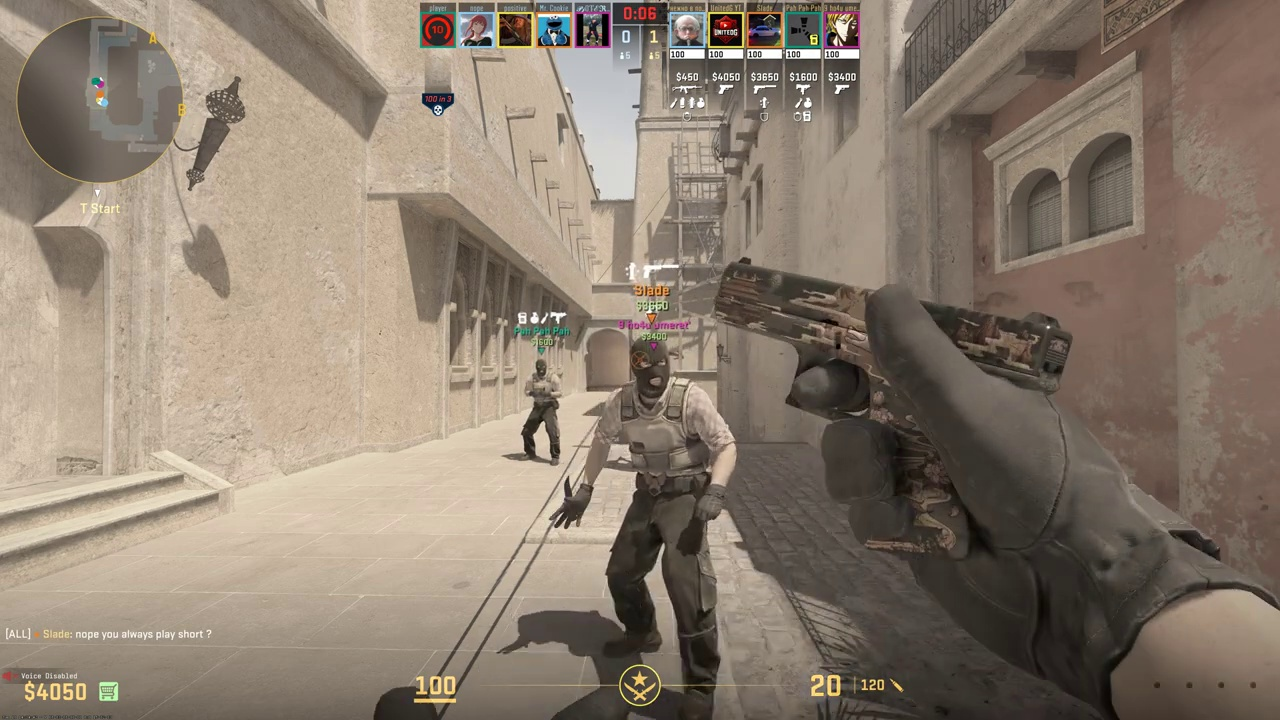Terrorist: (605, 335, 728, 715), (520, 359, 562, 460)
